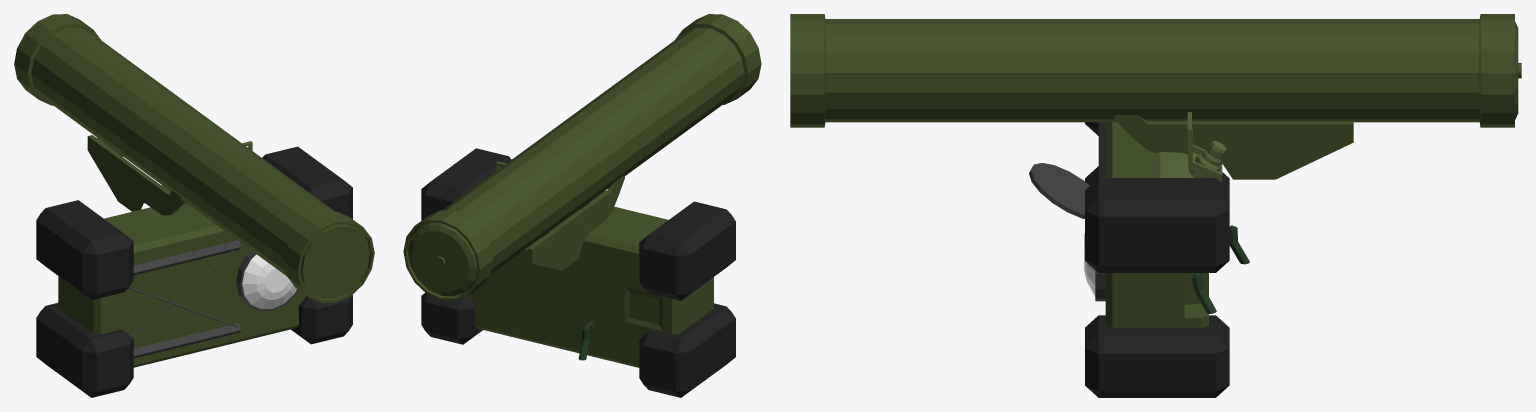
Rendered from rbs70_WEAPON_scaled_1_5_(EXPORT).glb.
The picture shows the model from 3 angles, left to right: view 1: azimuth 30°, elevation 25°; view 2: azimuth 150°, elevation 25°; view 3: azimuth 270°, elevation 25°; orthographic projection. The views are drawn at different scales.
Visible parts, largest first — view 1: WEAPON MASTER; view 2: WEAPON MASTER; view 3: WEAPON MASTER.
Part boxes in pixels (<box>): WEAPON MASTER: <box>14,14,374,397</box>; WEAPON MASTER: <box>403,14,761,397</box>; WEAPON MASTER: <box>790,14,1521,397</box>.
Size of the model in its own units: 5.8 by 4.79 by 10.62.
3 materials, 2 textured.
